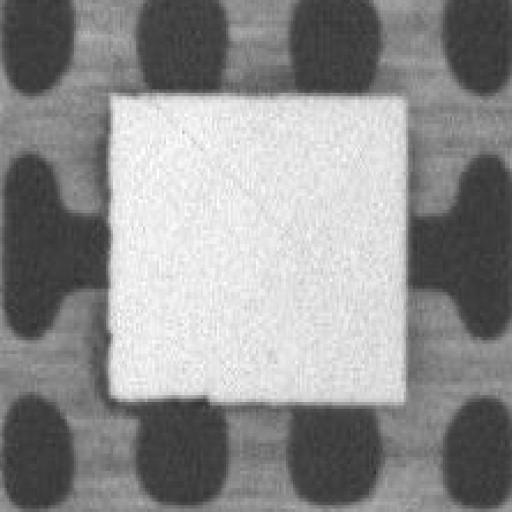DIE_CRACK: (216, 62, 454, 166)
